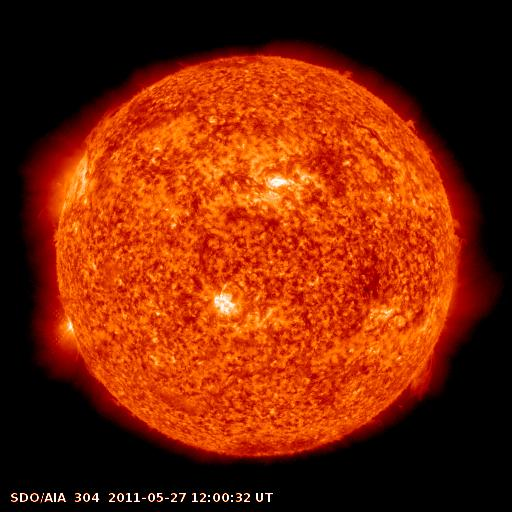prominence: (397, 346, 444, 408), (80, 97, 135, 148), (442, 209, 478, 257), (328, 61, 364, 86), (396, 111, 423, 140)
